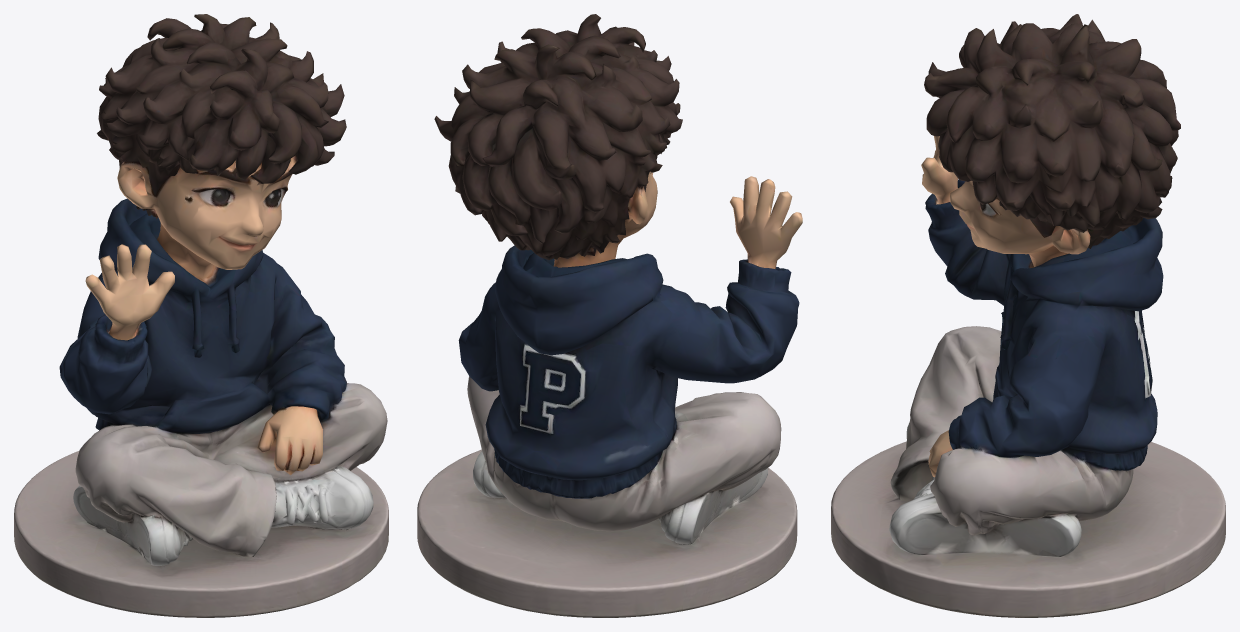
The model's file is wave.glb.
The picture shows the model from 3 angles, left to right: view 1: azimuth 30°, elevation 25°; view 2: azimuth 150°, elevation 25°; view 3: azimuth 270°, elevation 25°; orthographic projection. The views are drawn at different scales.
Parts seen in each view (by area): view 1: tripo_node_60a6af29-00b1-4213-b9eb-67b33f6bb506; view 2: tripo_node_60a6af29-00b1-4213-b9eb-67b33f6bb506; view 3: tripo_node_60a6af29-00b1-4213-b9eb-67b33f6bb506.
Boxes of the visible parts, bbox=[...] form: tripo_node_60a6af29-00b1-4213-b9eb-67b33f6bb506: bbox=[14, 14, 388, 617]; tripo_node_60a6af29-00b1-4213-b9eb-67b33f6bb506: bbox=[417, 14, 802, 617]; tripo_node_60a6af29-00b1-4213-b9eb-67b33f6bb506: bbox=[831, 14, 1225, 617].
Size of the model in its own units: 0.6686 by 0.977 by 0.6695.
Materials: 1 (1 with a texture image).
